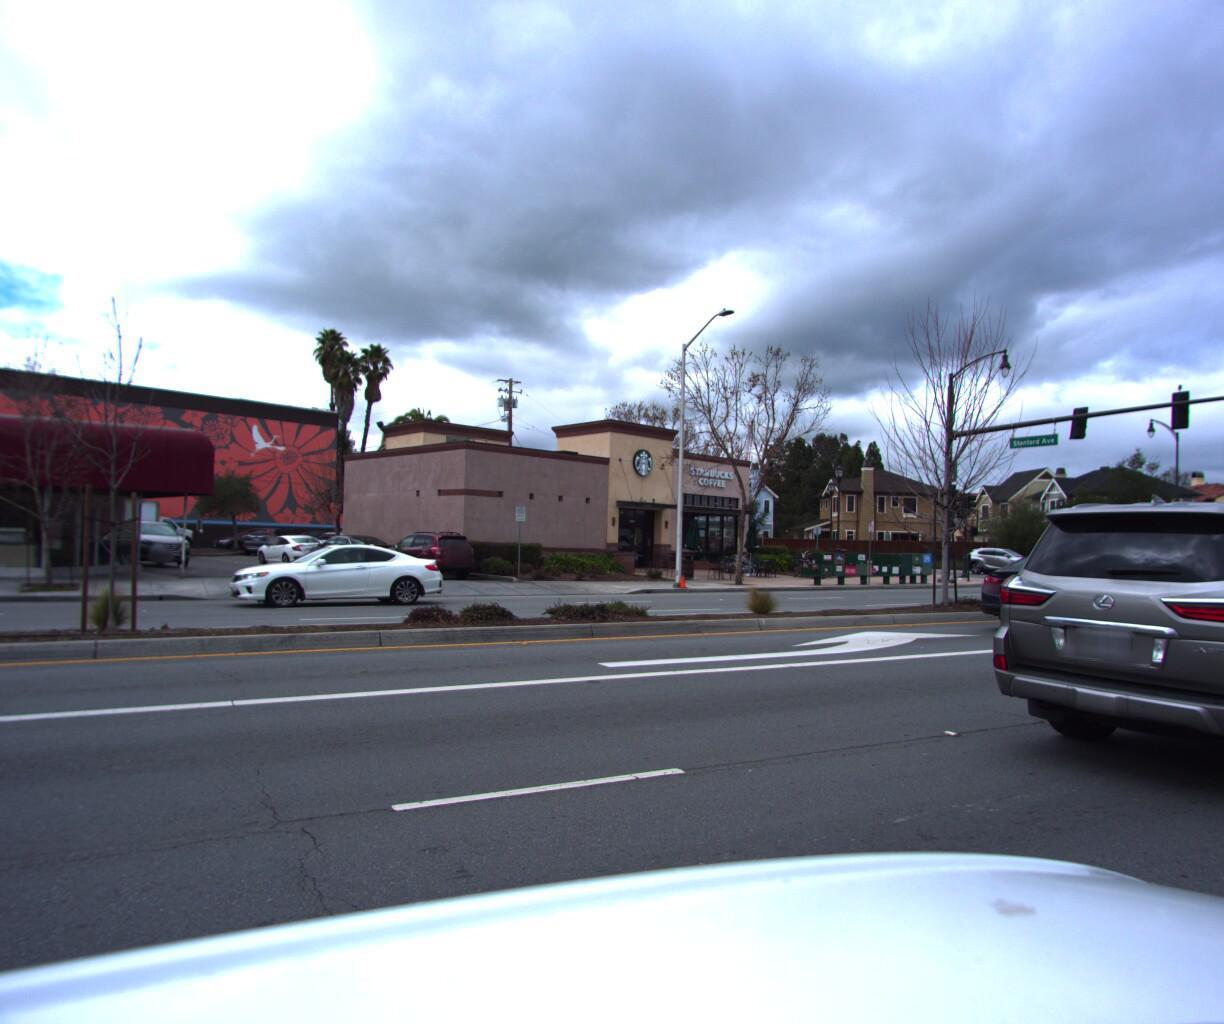car: (956, 472, 1224, 835), (963, 541, 1218, 637), (219, 533, 444, 606), (373, 527, 480, 575), (304, 533, 401, 570), (958, 543, 1050, 573)
